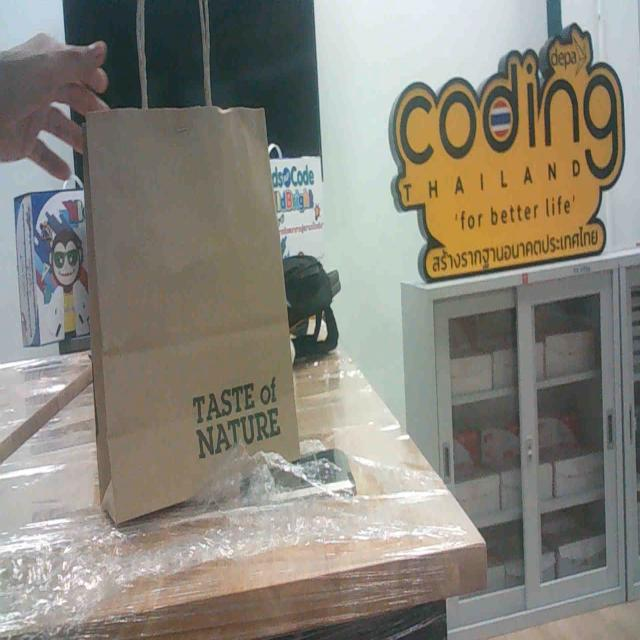bag: (78, 96, 315, 519)
